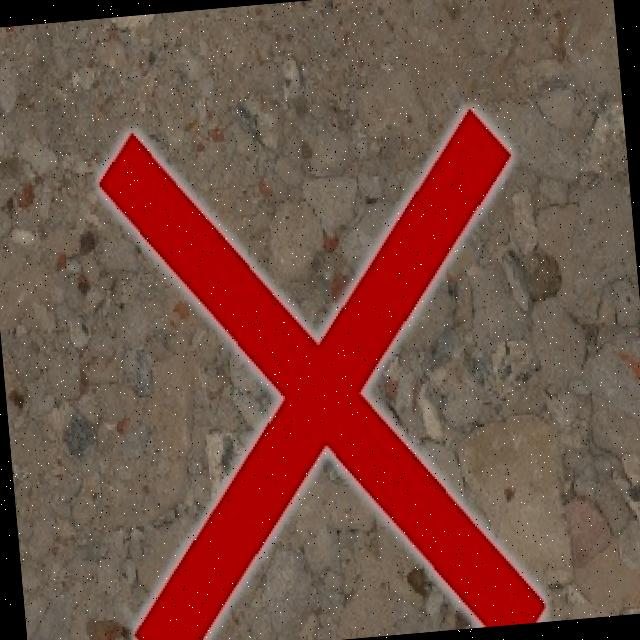x_marker: (90, 99, 550, 640)
